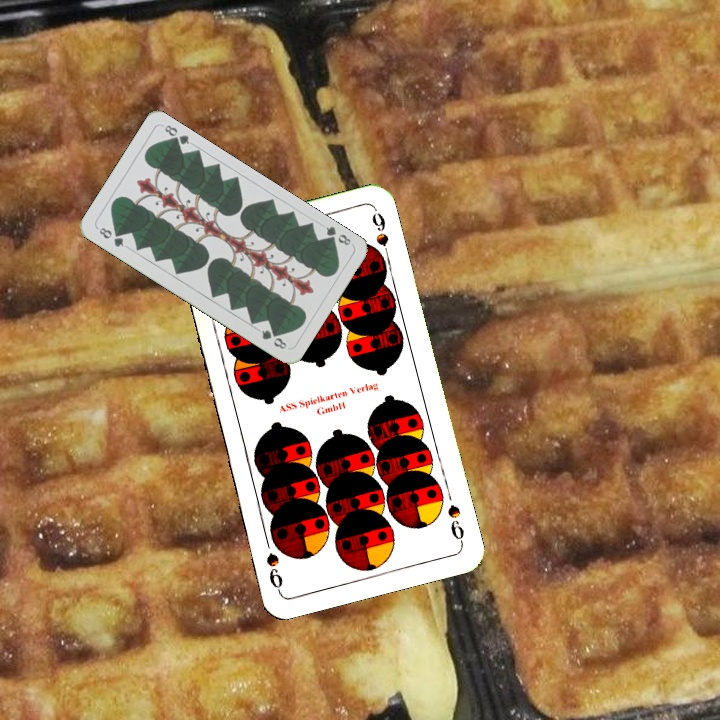G8: (95, 223, 126, 250), (321, 222, 353, 248)
S9: (443, 500, 467, 547)
